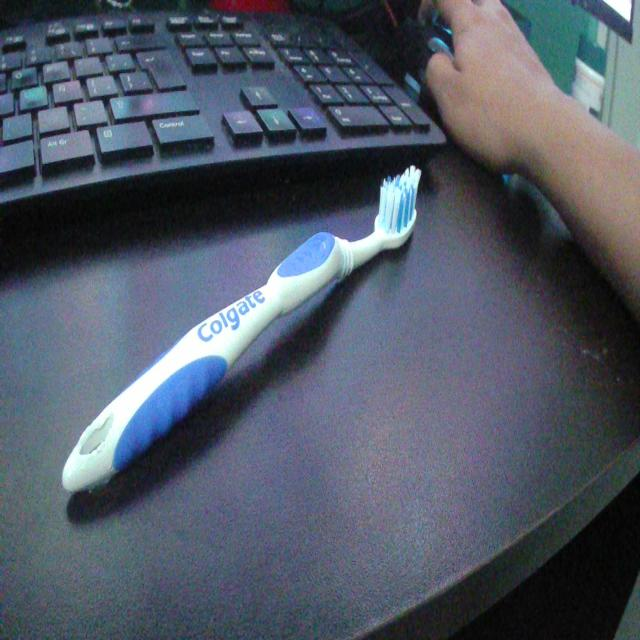Organico: (53, 150, 428, 516)
